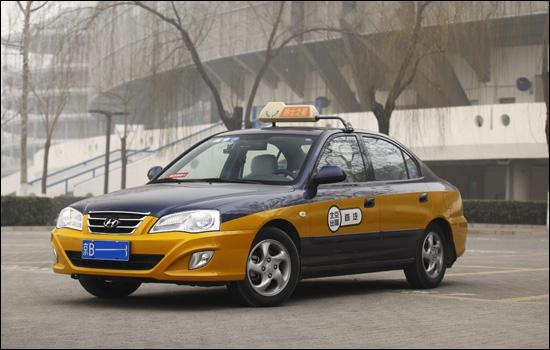car: (47, 99, 468, 304)
